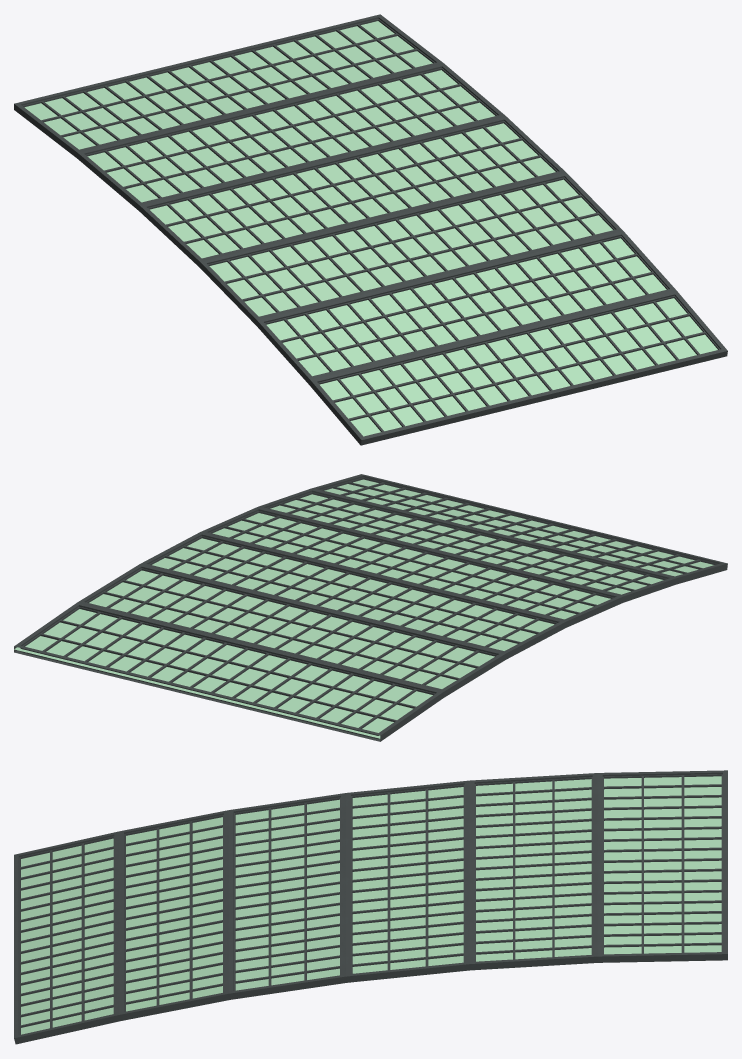
The model's file is Up_windows.fbx.
The picture shows the model from 3 angles, top to bottom: view 1: azimuth 30°, elevation 25°; view 2: azimuth 150°, elevation 25°; view 3: azimuth 270°, elevation 25°; orthographic projection. The views are drawn at different scales.
Visible parts, largest first — view 1: glass, Plane.076, up_window; view 2: glass, Plane.076, up_window; view 3: glass, Plane.076, up_window.
Part boxes in pixels (left/top/right/bottom): glass: left=24, top=21, right=717, bottom=436; Plane.076: left=22, top=19, right=719, bottom=431; up_window: left=14, top=14, right=727, bottom=445; glass: left=14, top=479, right=713, bottom=738; Plane.076: left=22, top=477, right=717, bottom=735; up_window: left=14, top=474, right=727, bottom=741; glass: left=21, top=776, right=721, bottom=1034; Plane.076: left=19, top=774, right=722, bottom=1034; up_window: left=14, top=770, right=727, bottom=1044.
Bounding box in the file's own units: 1861 × 428 × 3057.
